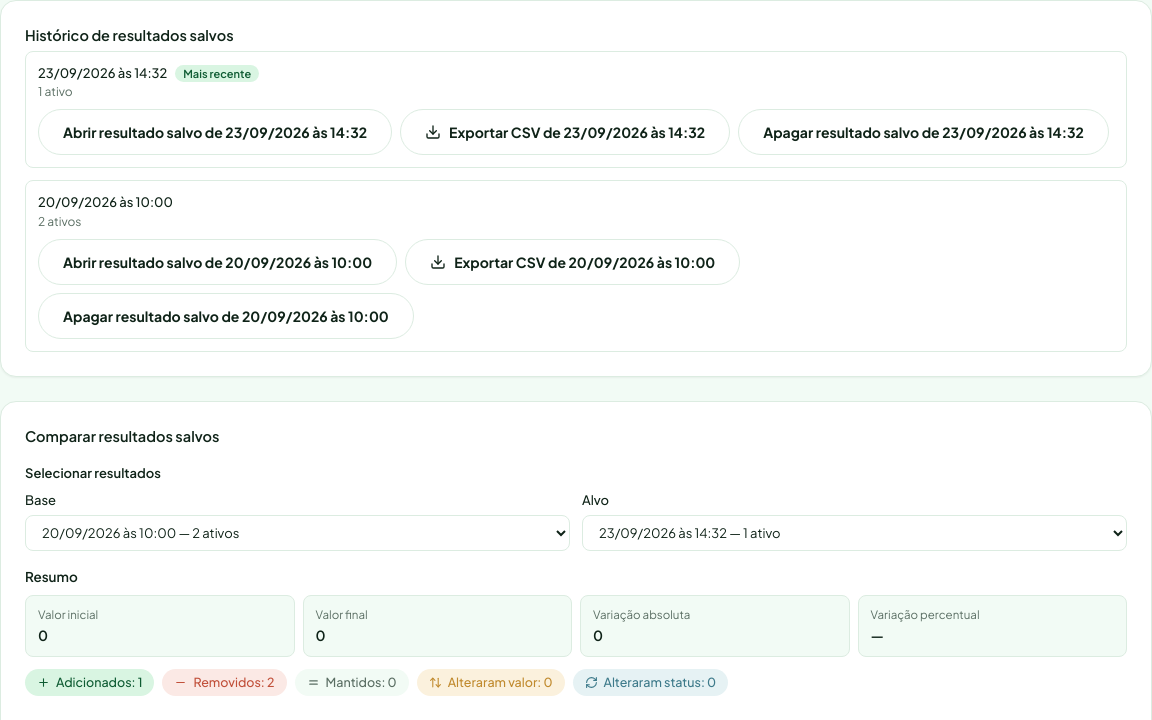
apagar a specific entry › a failure keeps the entry in the list
Click the button "Apagar resultado salvo de 20/09/2026 às 10:00": (226, 316) [38, 293, 414, 339]
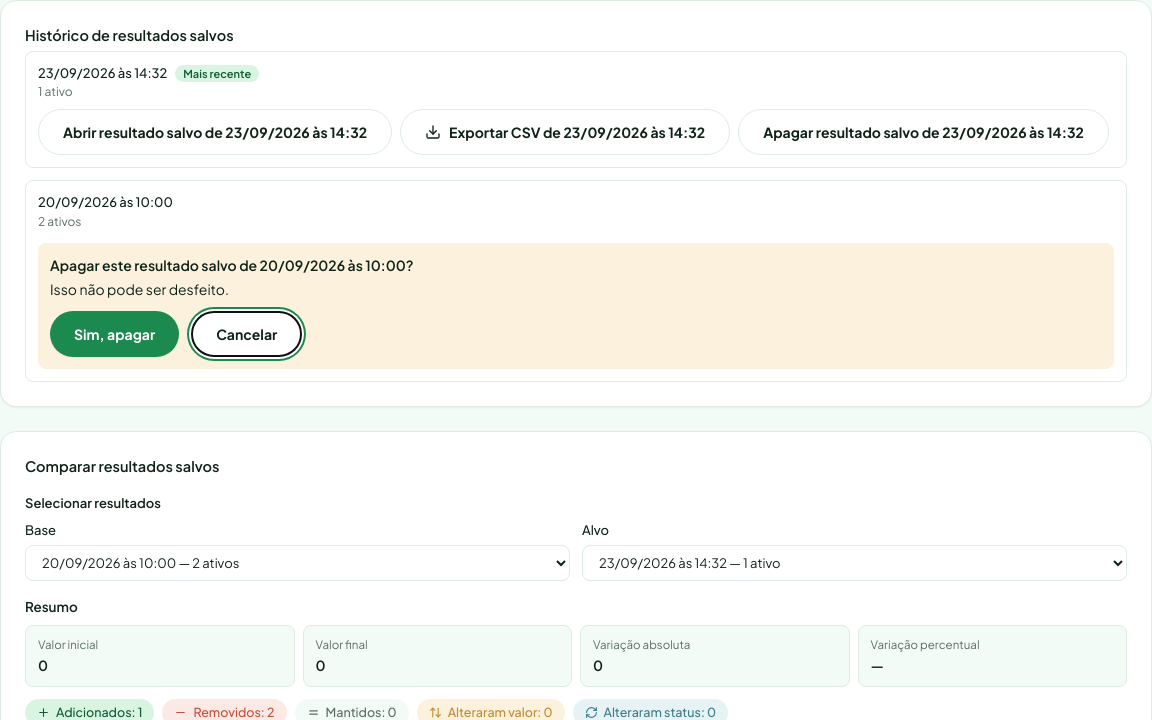
Click the button "Sim, apagar": (115, 334) [50, 311, 179, 357]
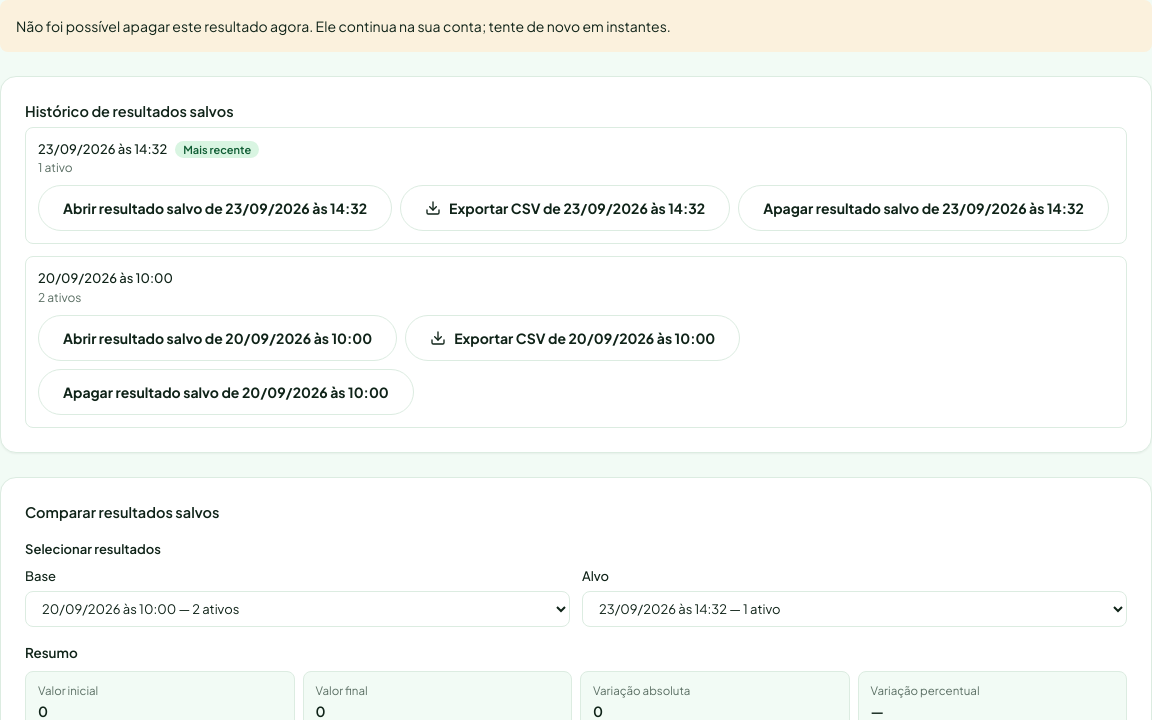
Check: the message shows "Não foi possível apagar este resultado", box [16, 17, 671, 35]
